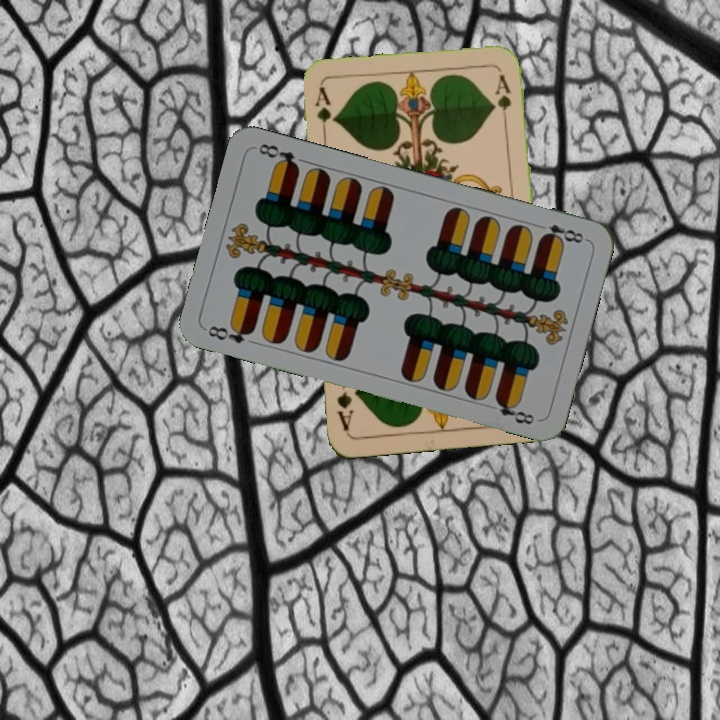E8: (532, 219, 589, 246), (203, 319, 257, 346)
GA: (311, 84, 333, 143)
